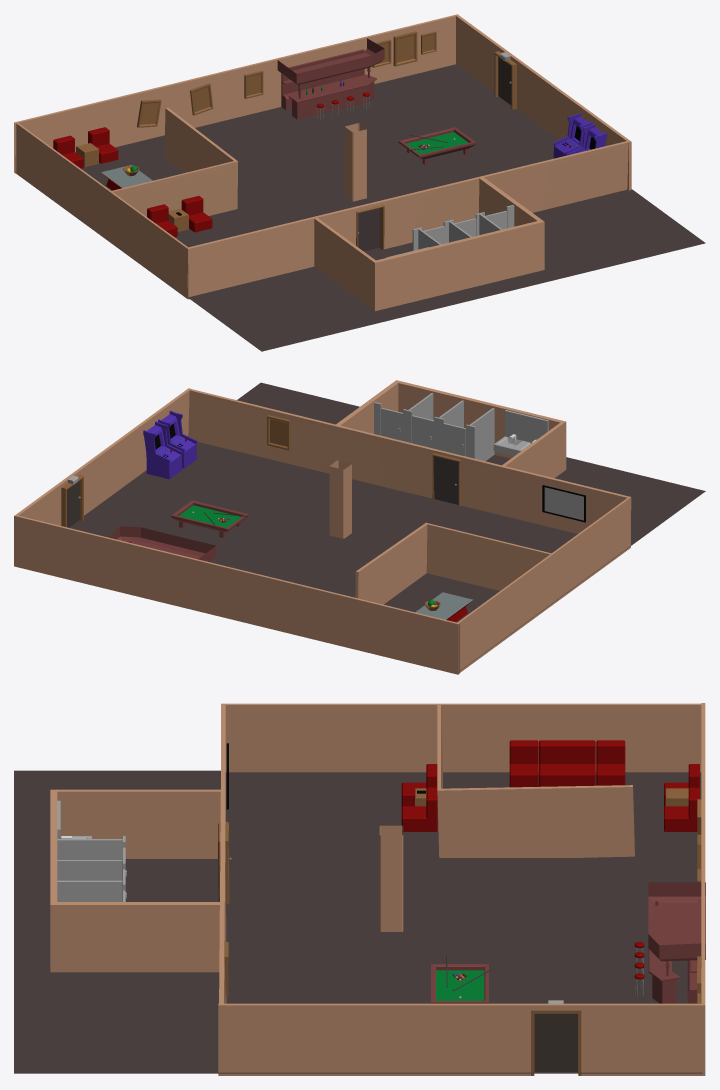
Rendered from Room_2.fbx.
3 renders of one model, top to bottom at view 1: azimuth 30°, elevation 25°; view 2: azimuth 150°, elevation 25°; view 3: azimuth 270°, elevation 25°, orthographic. The views are drawn at different scales.
Parts seen in each view (by area): view 1: Wall, Floor1, Bar, bathroom, cylindar, ball, door2, Gameboy, picture_2, sofa_5, sofa_2, Table (+6 smaller); view 2: Wall, Floor1, bathroom, Bar, cylindar, Gameboy, bathroom_table, ball, pCube52, door2, Gameboy1, Table (+2 smaller); view 3: Floor1, Wall, Bar, sofa_4, bathroom, cylindar, door_1, ball, sofa_5, sofa_2, sofa_6.
Boxes of the visible parts, x1=… form: Wall: x1=14, y1=14, x2=631, y2=311; Floor1: x1=16, y1=64, x2=705, y2=351; Bar: x1=277, y1=38, x2=384, y2=119; bathroom: x1=412, y1=205, x2=514, y2=250; cylindar: x1=345, y1=123, x2=366, y2=201; ball: x1=398, y1=127, x2=476, y2=164; door2: x1=358, y1=208, x2=379, y2=251; Gameboy: x1=553, y1=113, x2=592, y2=158; picture_2: x1=393, y1=31, x2=417, y2=66; sofa_5: x1=181, y1=196, x2=212, y2=232; sofa_2: x1=88, y1=127, x2=118, y2=163; Table: x1=101, y1=165, x2=152, y2=190; Wall: x1=14, y1=380, x2=631, y2=674; Floor1: x1=69, y1=382, x2=705, y2=671; bathroom: x1=374, y1=393, x2=494, y2=461; Bar: x1=106, y1=526, x2=216, y2=573; cylindar: x1=329, y1=460, x2=351, y2=538; Gameboy: x1=143, y1=421, x2=182, y2=479; bathroom_table: x1=493, y1=410, x2=548, y2=455; ball: x1=171, y1=500, x2=248, y2=537; pCube52: x1=542, y1=485, x2=585, y2=522; door2: x1=433, y1=456, x2=458, y2=504; Gameboy1: x1=158, y1=410, x2=197, y2=468; Table: x1=415, y1=592, x2=472, y2=622; Floor1: x1=14, y1=770, x2=702, y2=1073; Wall: x1=50, y1=703, x2=705, y2=1075; Bar: x1=648, y1=882, x2=705, y2=1003; sofa_4: x1=509, y1=740, x2=625, y2=787; bathroom: x1=57, y1=836, x2=126, y2=901; cylindar: x1=379, y1=825, x2=403, y2=931; door_1: x1=534, y1=1013, x2=577, y2=1071; ball: x1=431, y1=964, x2=488, y2=1003; sofa_5: x1=401, y1=787, x2=437, y2=831; sofa_2: x1=664, y1=787, x2=699, y2=831; sofa_6: x1=401, y1=764, x2=437, y2=806.
Bounding box in the file's own units: 46.48 × 7.8 × 44.84.
